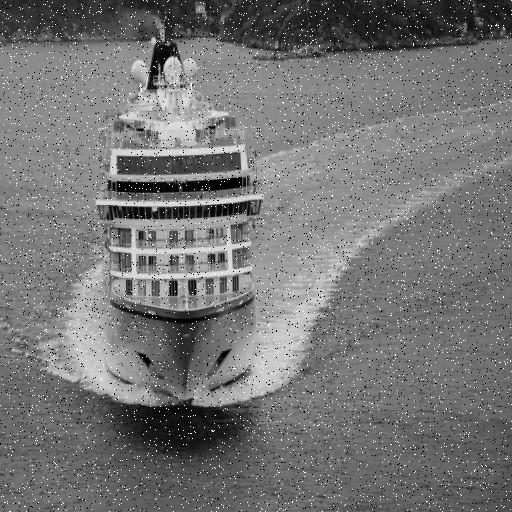cruises: (92, 32, 272, 408)
